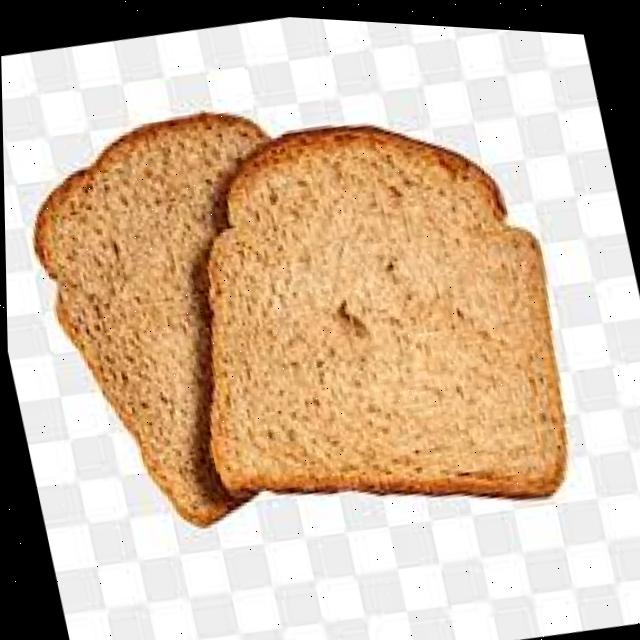Bread: (34, 110, 565, 522), (207, 122, 564, 488)
